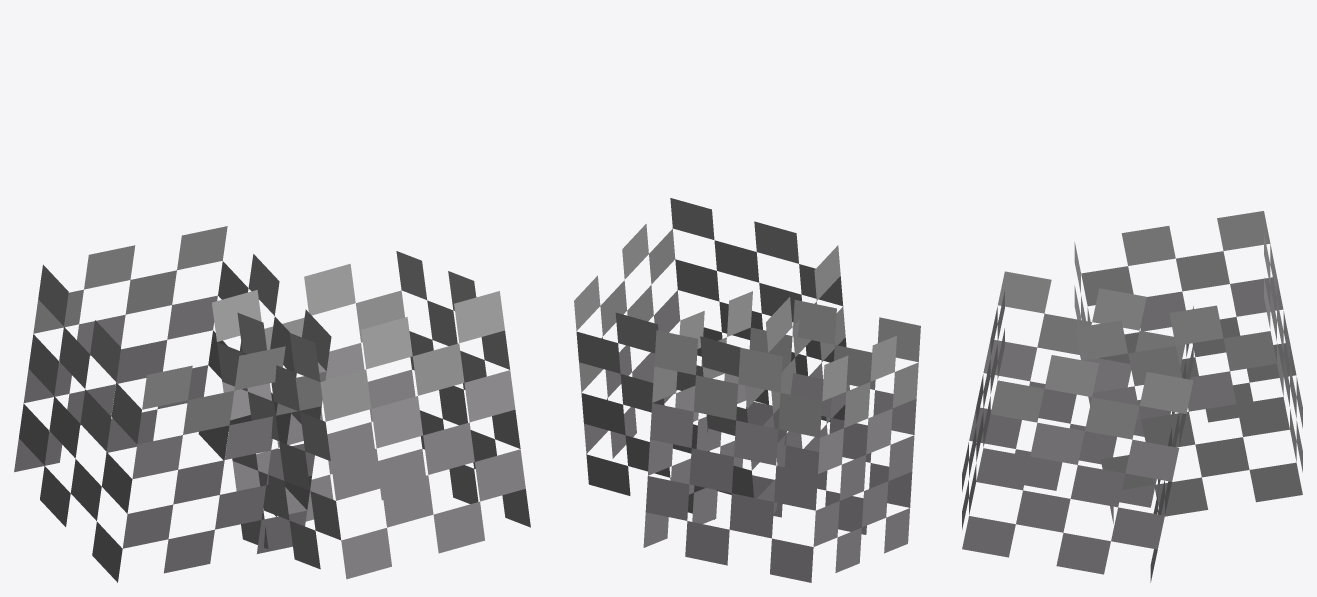
The model's file is chainmail.gltf.
The picture shows the model from 3 angles, left to right: view 1: azimuth 30°, elevation 25°; view 2: azimuth 150°, elevation 25°; view 3: azimuth 270°, elevation 25°; orthographic projection. The views are drawn at different scales.
Parts seen in each view (by area): view 1: Right Boot, Left Boot; view 2: Left Boot, Right Boot; view 3: Right Boot, Left Boot.
Part boxes in pixels (left/top/right/bottom): Right Boot: left=212, top=251, right=530, bottom=579; Left Boot: left=14, top=226, right=331, bottom=582; Left Boot: left=643, top=291, right=920, bottom=582; Right Boot: left=574, top=198, right=849, bottom=519; Right Boot: left=962, top=271, right=1193, bottom=582; Left Boot: left=1074, top=211, right=1302, bottom=523.
Bounding box in the file's own units: 0.6704 × 0.943 × 0.6648.
1 material, 1 textured.
